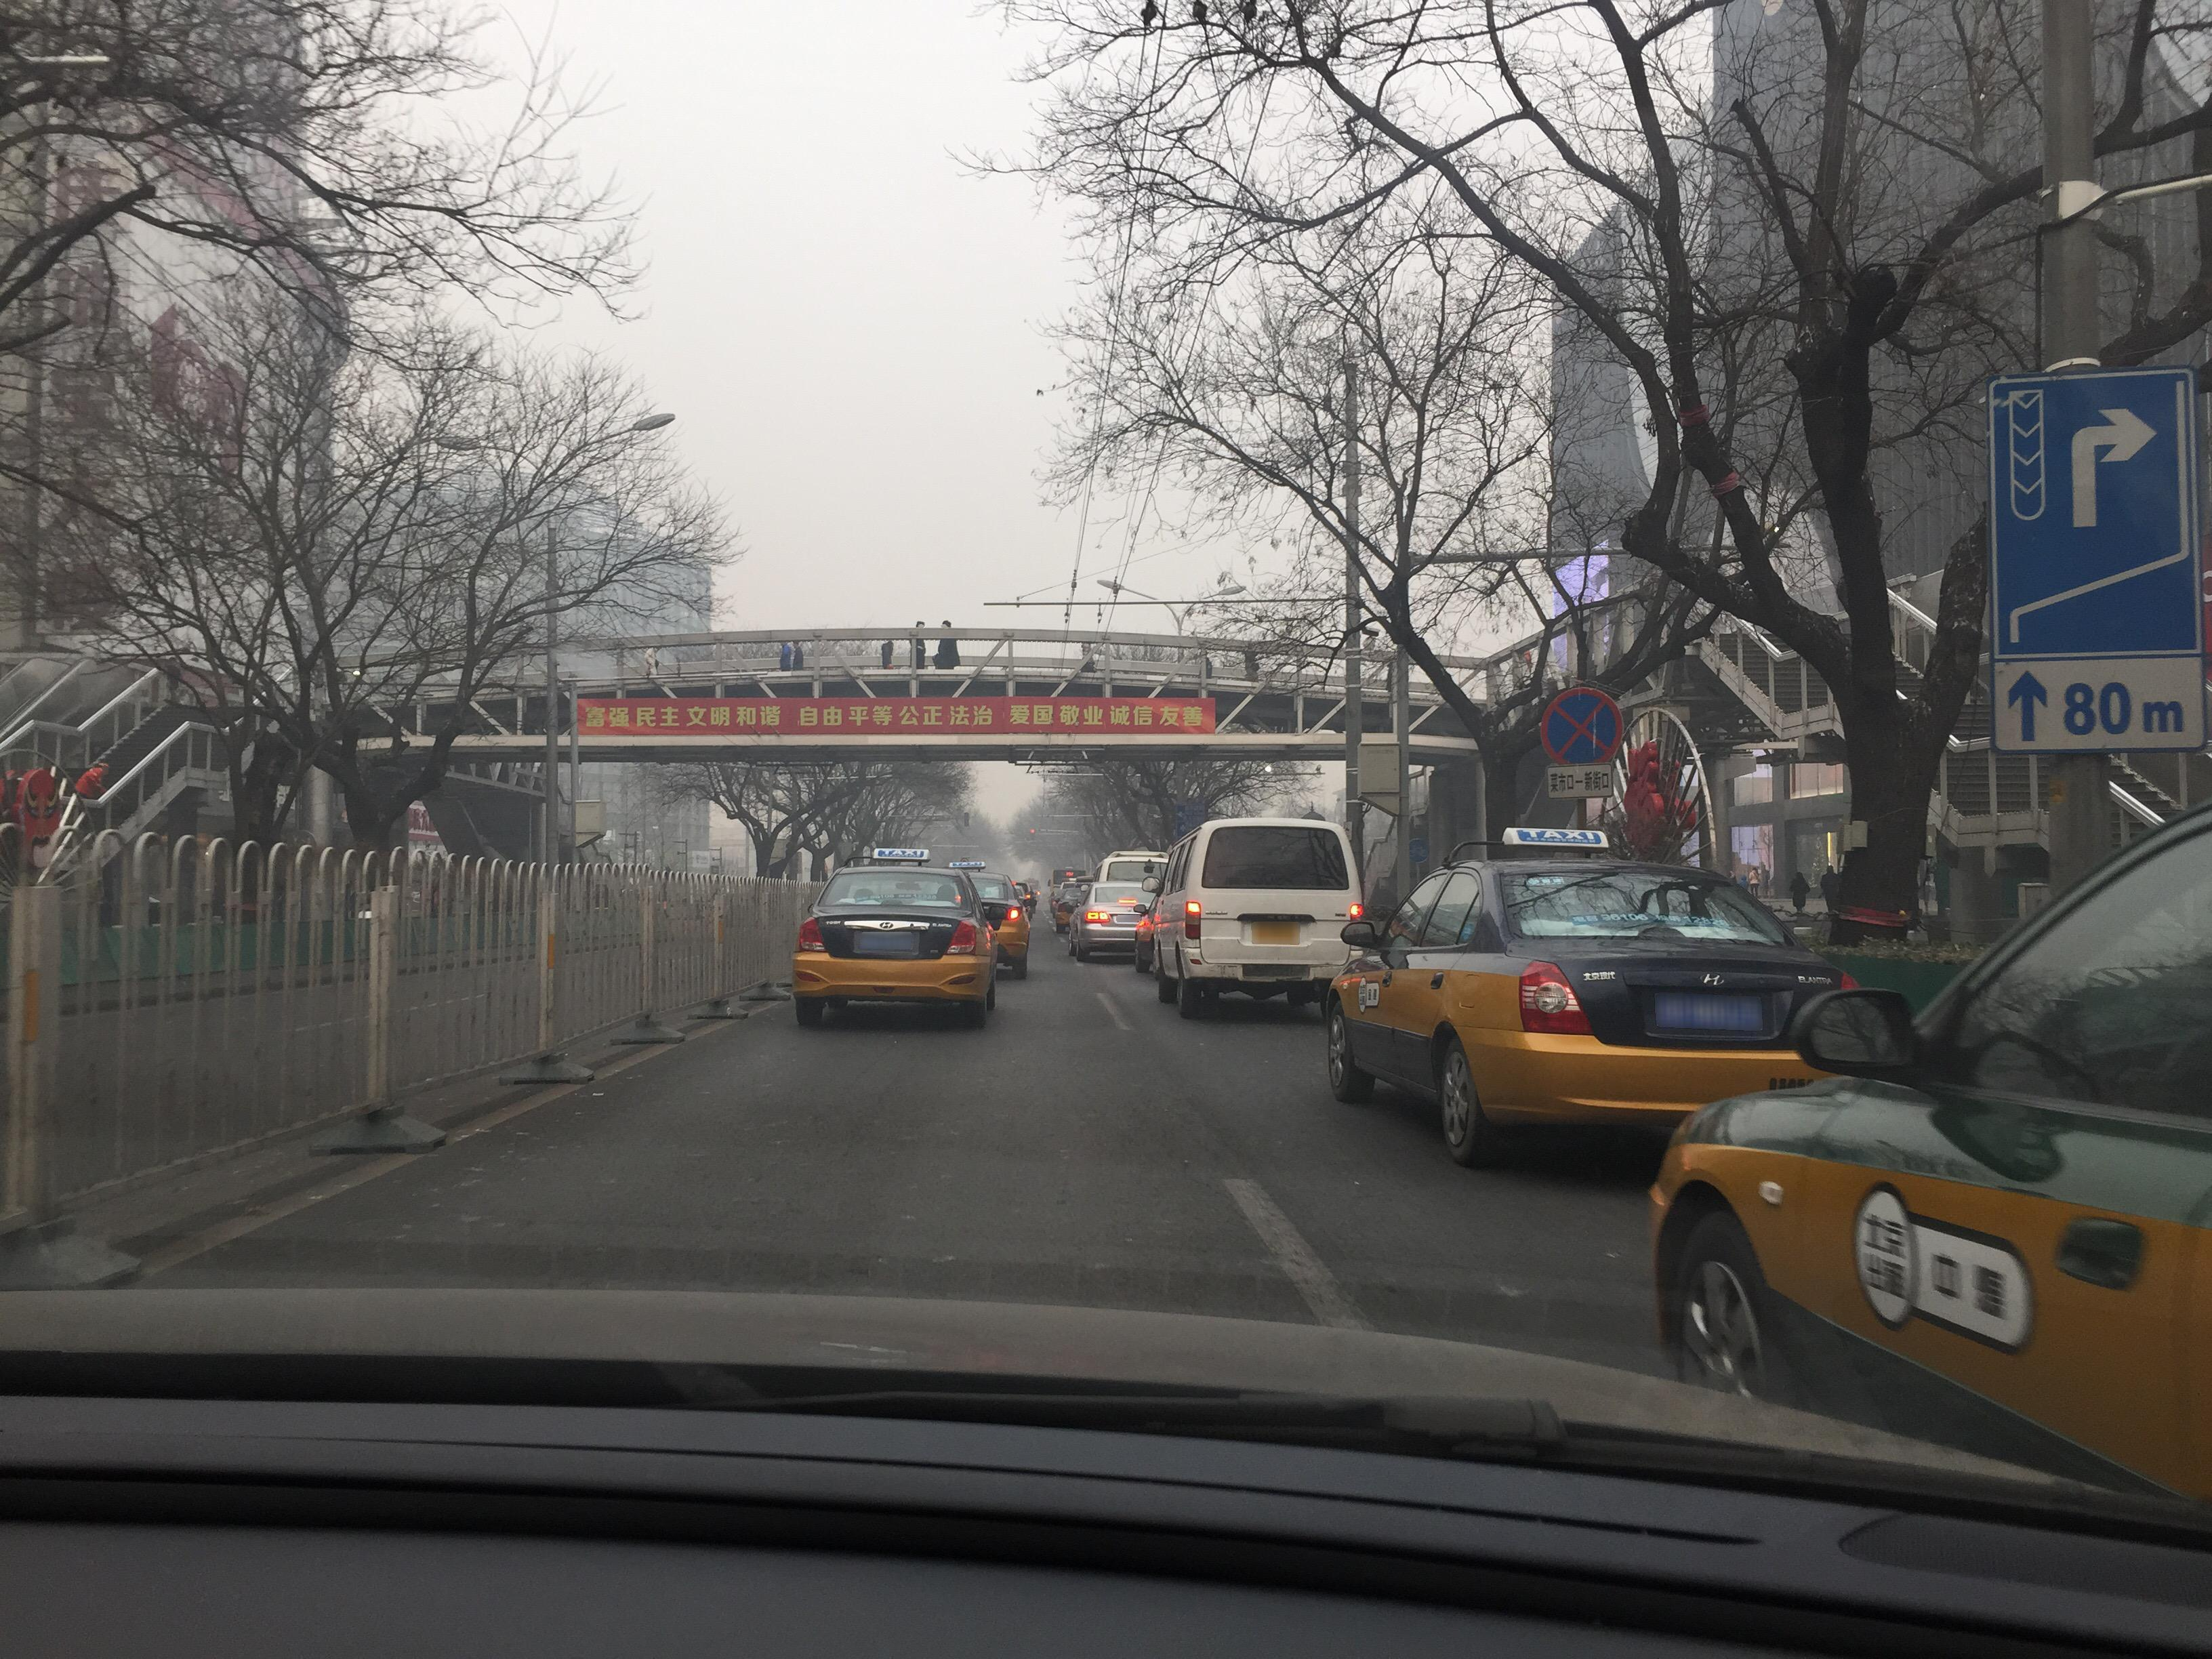vinyl banner: (552, 683, 1228, 748)
